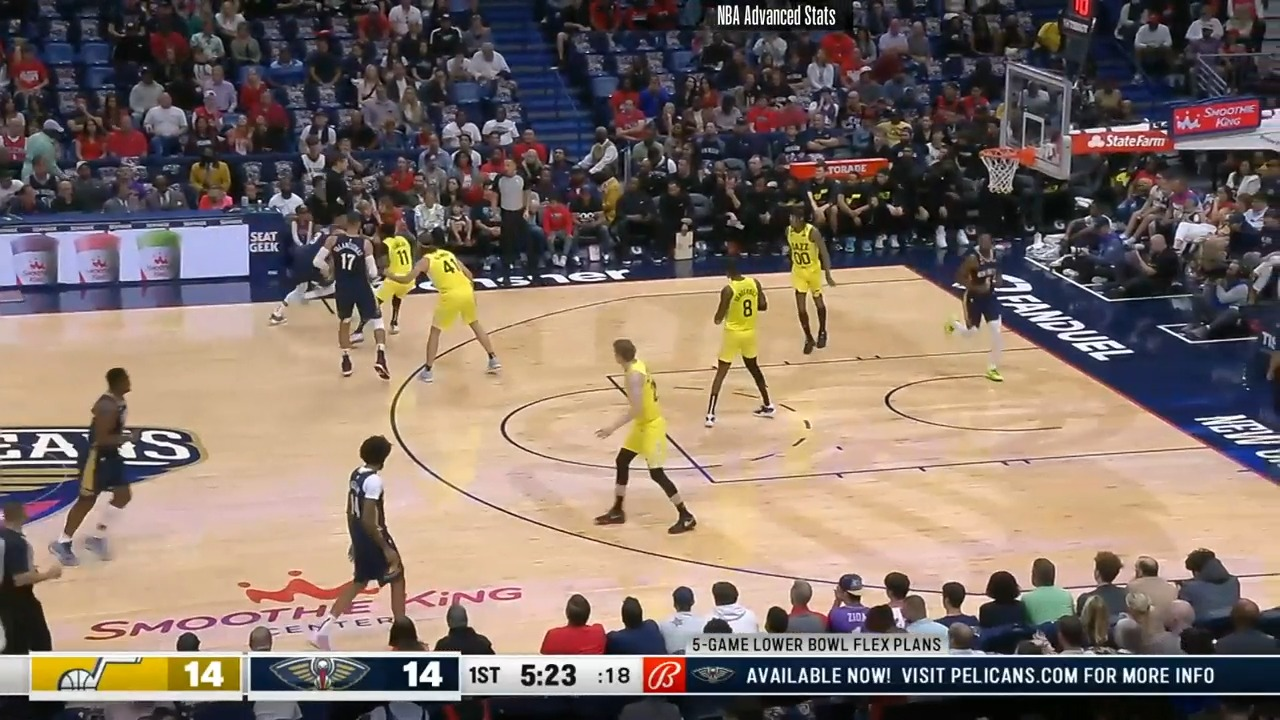net: (975, 142, 1037, 198)
player: (317, 433, 421, 640), (588, 335, 695, 536), (56, 367, 152, 570), (389, 233, 502, 382), (704, 251, 776, 433), (317, 210, 389, 386), (267, 203, 352, 326), (949, 229, 1013, 386), (782, 205, 839, 359), (366, 205, 415, 346)
referee: (0, 496, 64, 652), (490, 157, 544, 292)
